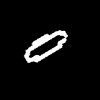chain: (25, 30, 67, 62)
